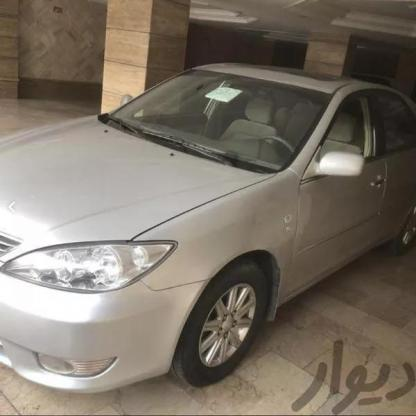Car: (0, 60, 416, 392)
